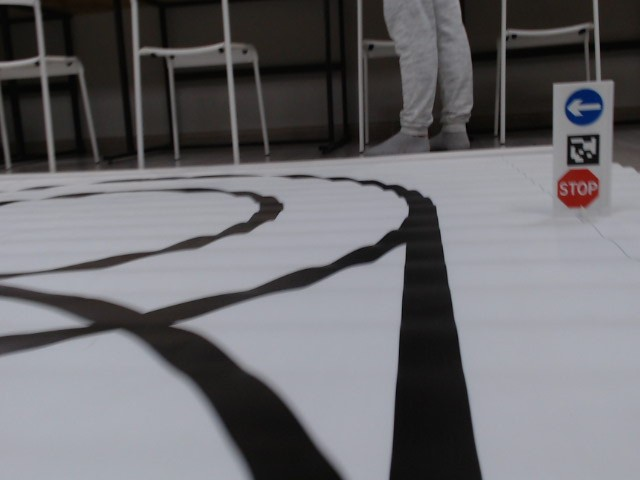Stop: (555, 169, 601, 208)
